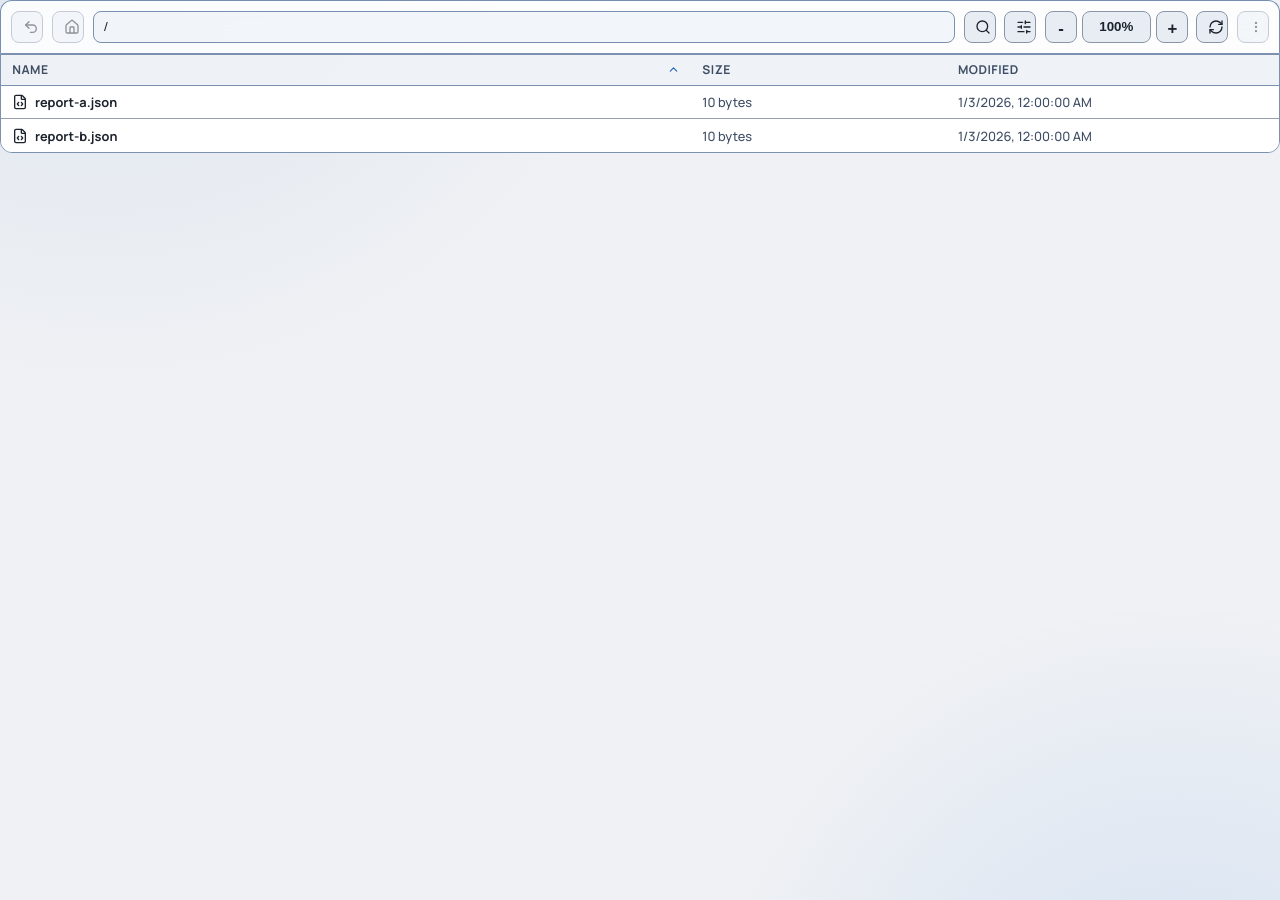
Test: BrowserPage sorting and filtering › supports advanced metadata filter queries in the filter input
The width and height of the screenshot is (1280, 900).
Click the button named "Open filter".
click(980, 27)  # box [964,11,996,43]
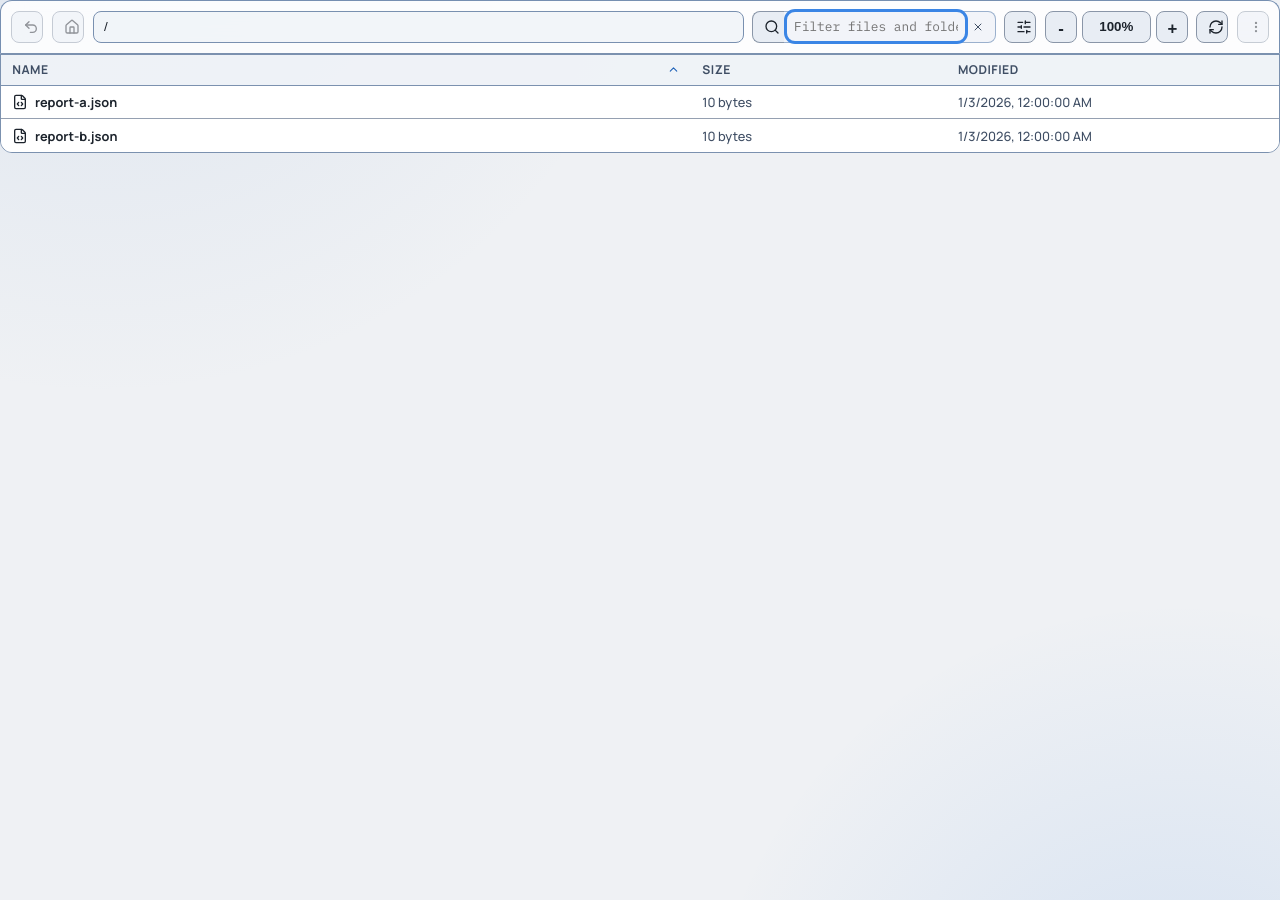
Type "meta.owner:alice" into the field labelled "Filter files and folders".
click(876, 27); type("meta.owner:alice")  # box [789,14,964,39]
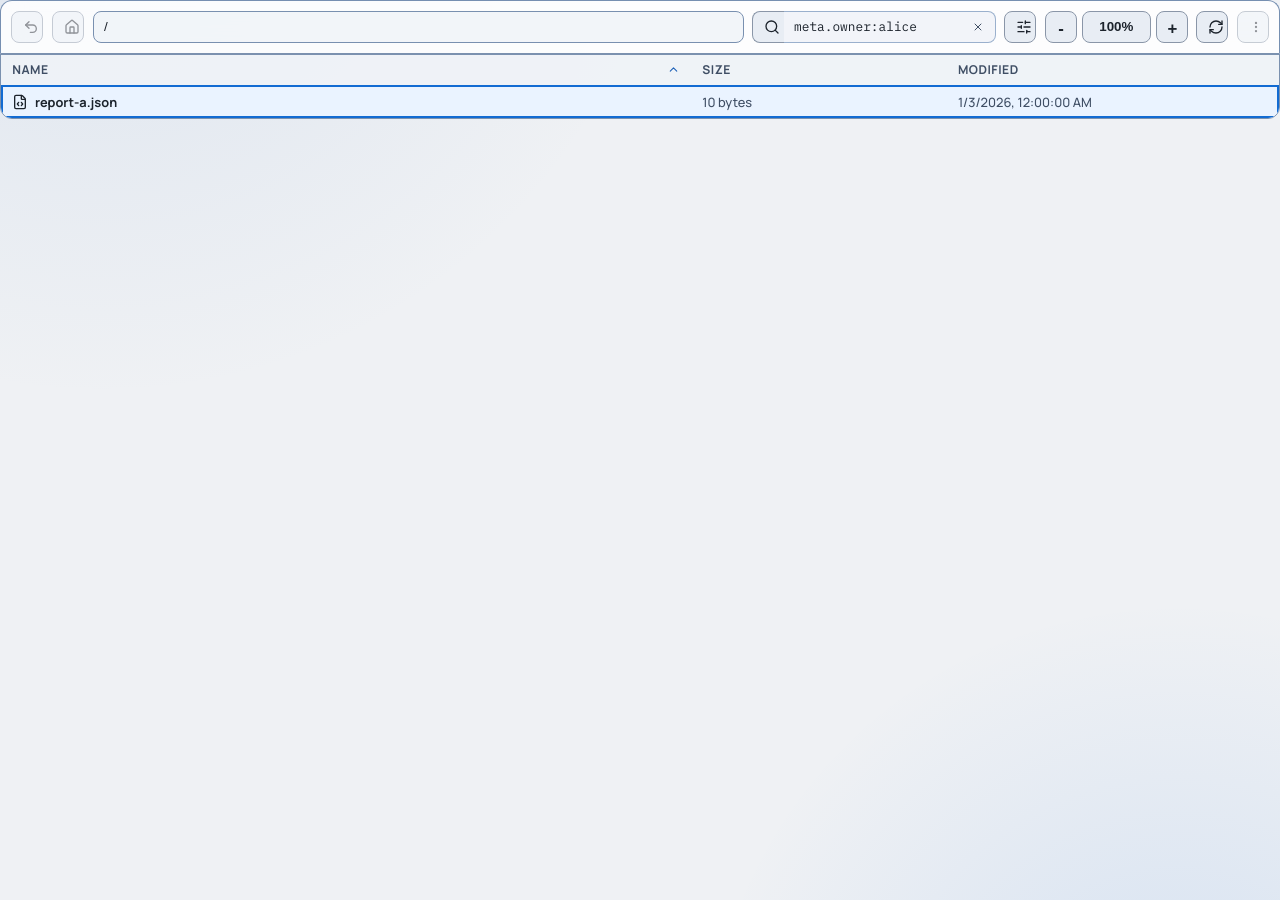
Expected: the text "report-a.json" is shown, [35,93,117,111]
Result: the text "report-b.json" is gone
